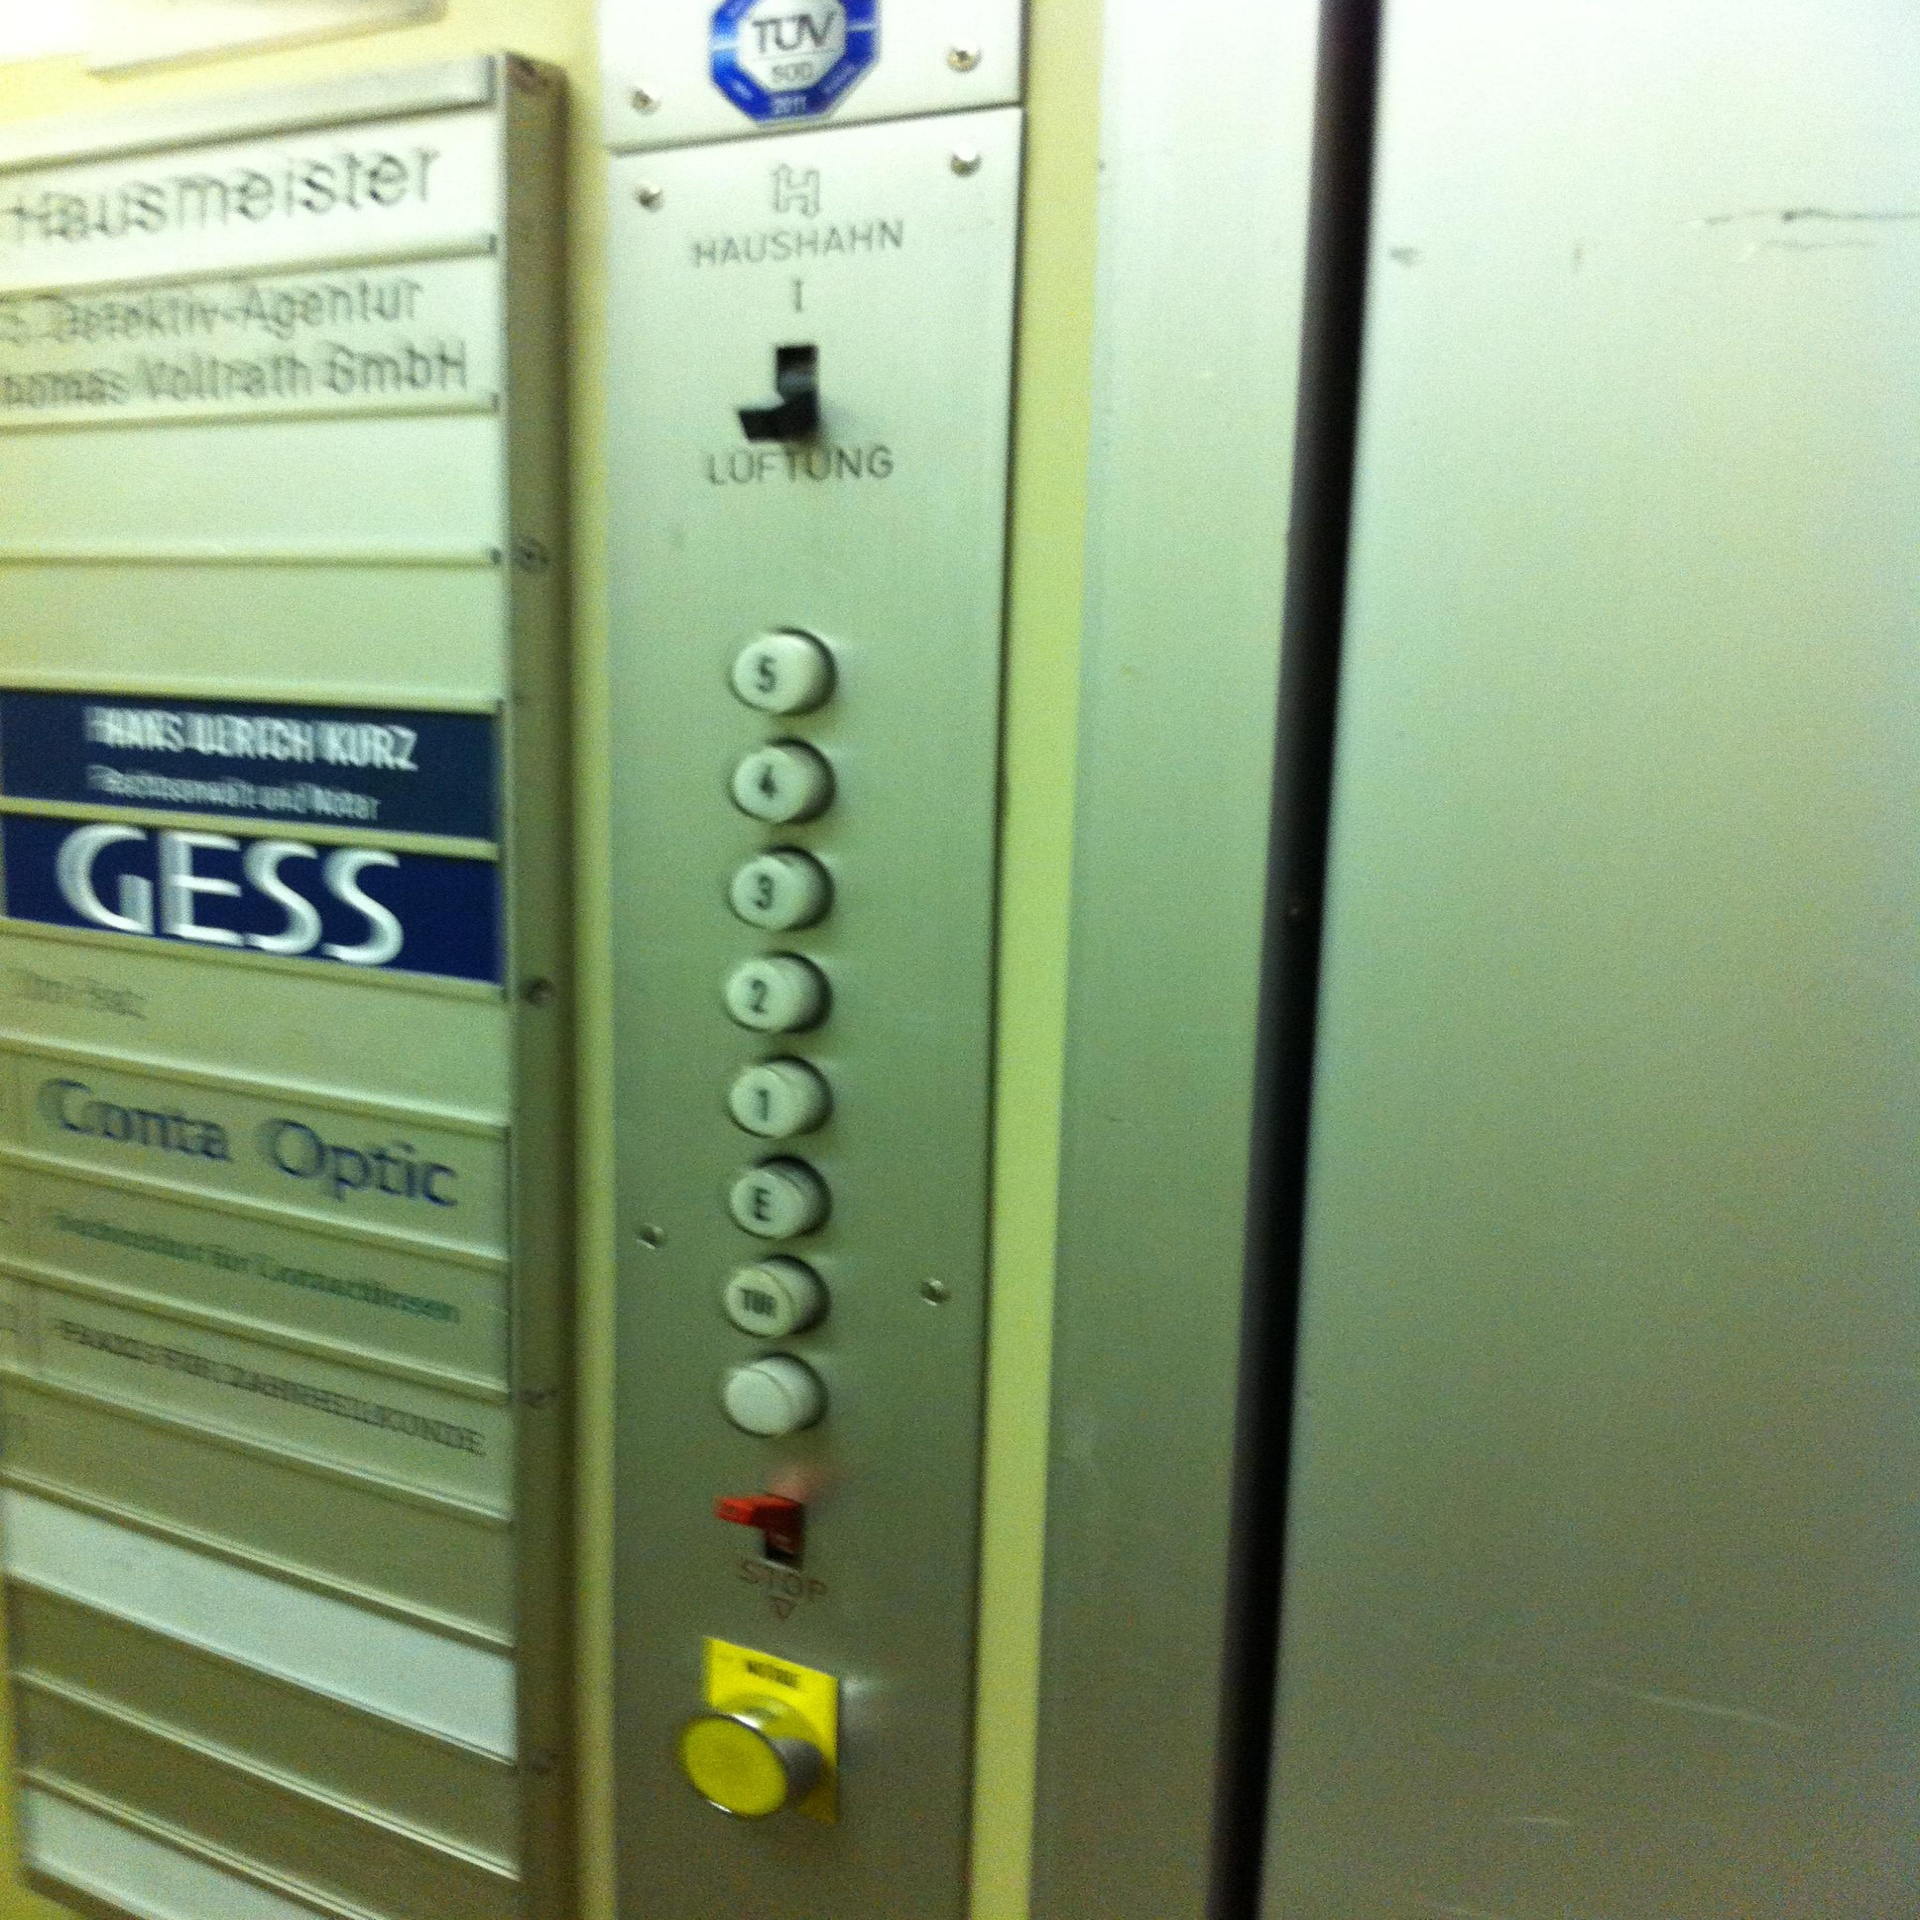1: (721, 1051, 839, 1148)
2: (721, 944, 832, 1043)
3: (723, 844, 833, 942)
4: (726, 733, 837, 832)
5: (726, 622, 837, 721)
E: (717, 1153, 835, 1250)
TOR: (716, 1247, 833, 1343)
empty: (668, 1635, 844, 1827), (709, 1347, 826, 1444)
switch: (733, 324, 837, 461), (707, 1480, 818, 1575)
